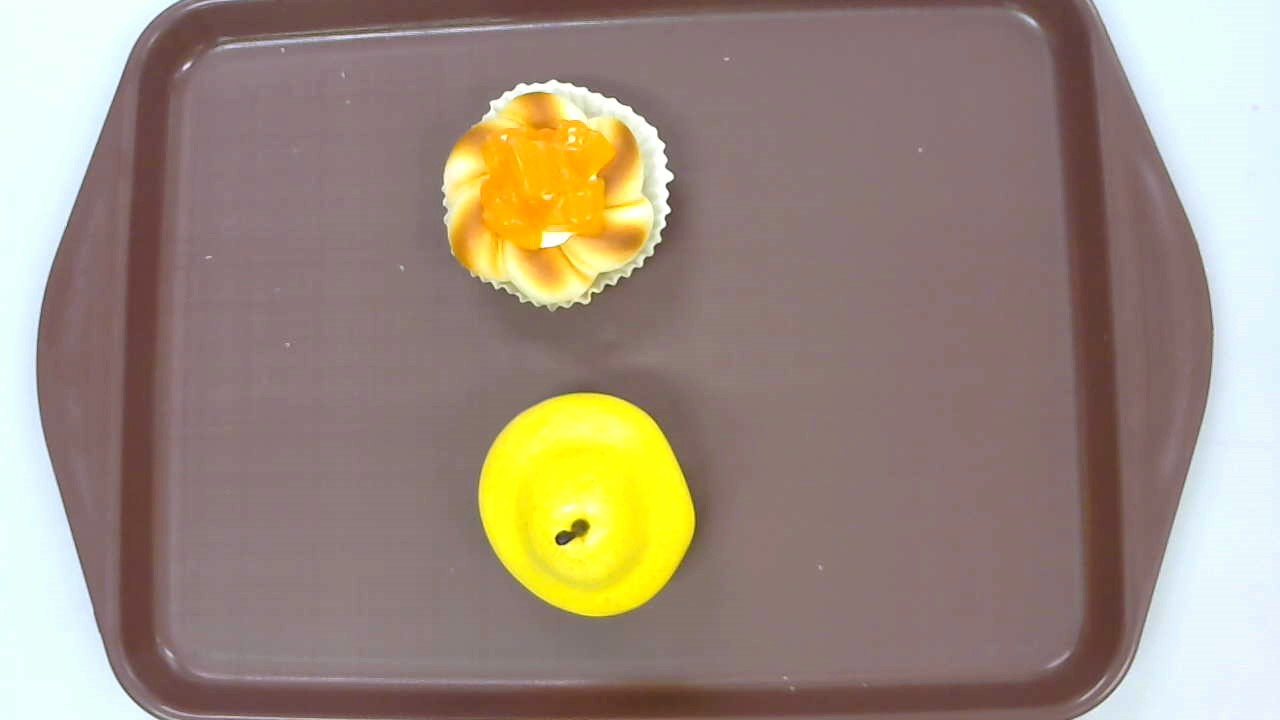mango tart: (441, 79, 675, 312)
yellow pear: (476, 391, 696, 619)
